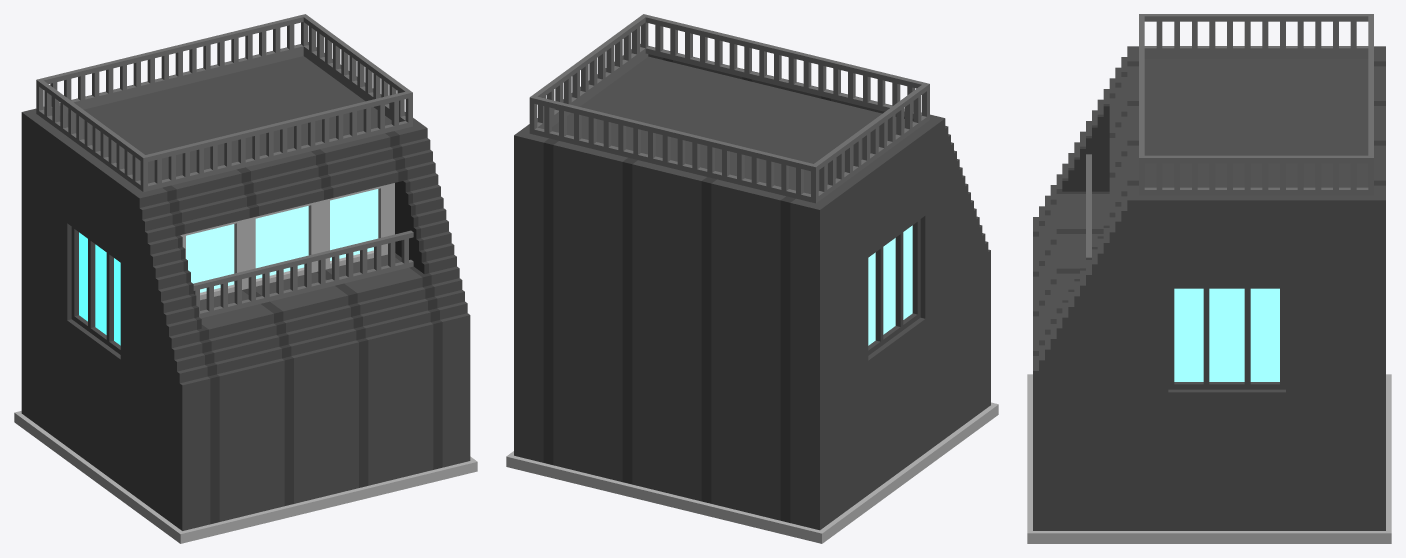
File: typeSeven.glb
3 renders of one model, left to right at view 1: azimuth 30°, elevation 25°; view 2: azimuth 150°, elevation 25°; view 3: azimuth 270°, elevation 25°, orthographic. The views are drawn at different scales.
Parts seen in each view (by area): view 1: ObjObject; view 2: ObjObject; view 3: ObjObject.
Boxes of the visible parts, x1,y1,x2,y2 form: ObjObject: [14, 14, 477, 543]; ObjObject: [506, 14, 998, 543]; ObjObject: [1027, 14, 1391, 543].
Bounding box in the file's own units: 6.4 × 7.1 × 6.2.
Materials: 3 (1 with a texture image).
